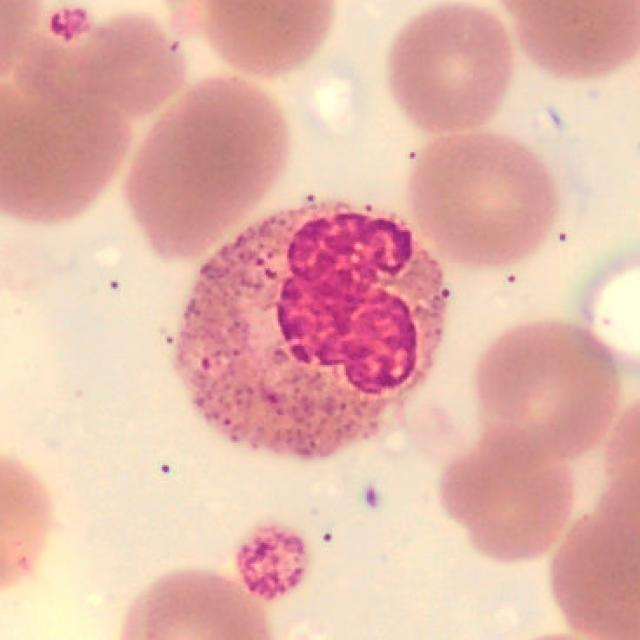Bastonete: (174, 202, 449, 460)
